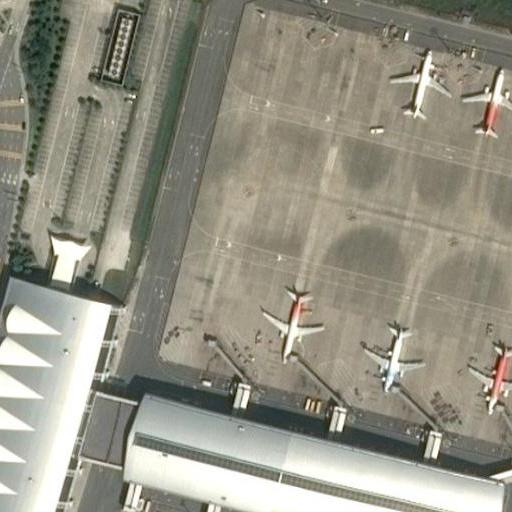Aircraft: (256, 285, 326, 361), (358, 319, 425, 394), (388, 40, 451, 116), (459, 65, 512, 139), (467, 339, 512, 417)
